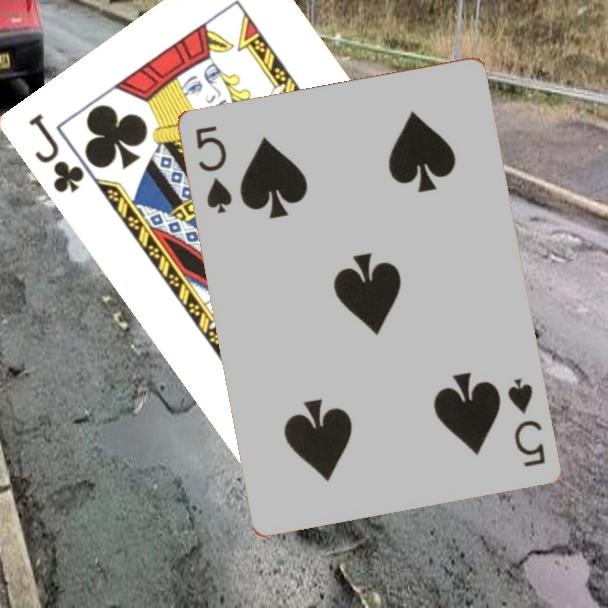c11: (25, 110, 88, 196)
s05: (504, 375, 549, 470), (192, 122, 236, 217)
